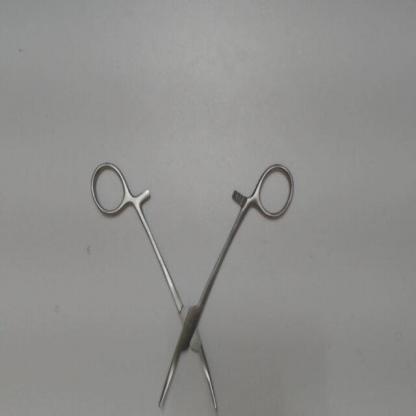Crile Artery Forceps: (88, 152, 298, 415)
